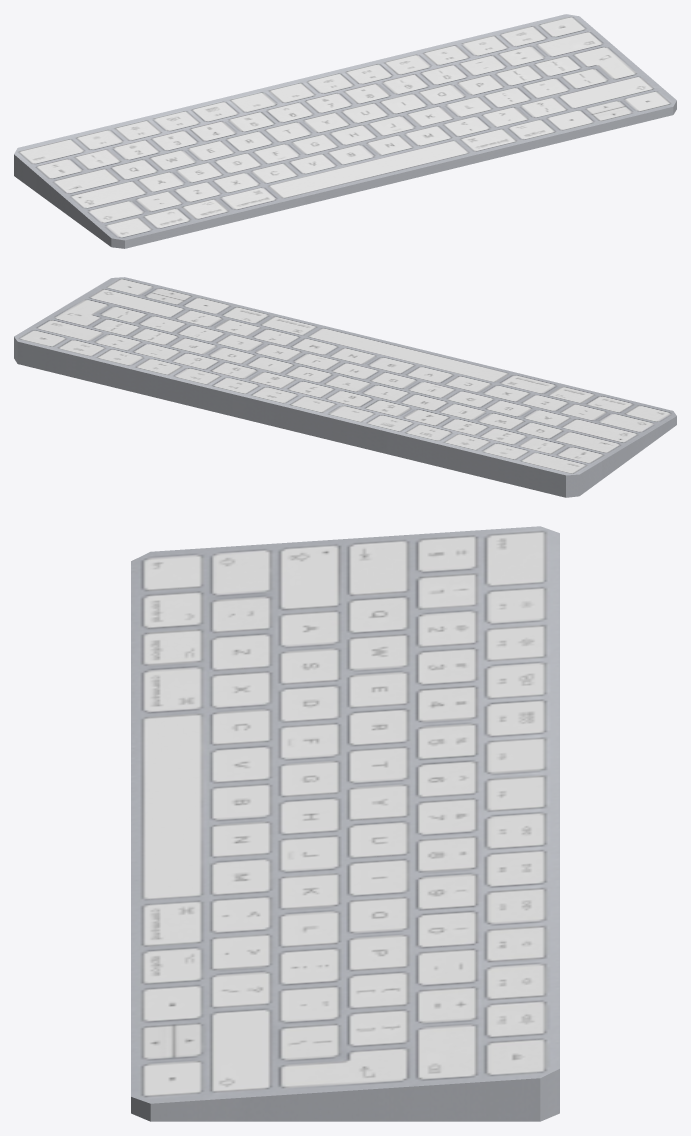
The model's file is Set_05_Keyboard.fbx.
3 renders of one model, top to bottom at view 1: azimuth 30°, elevation 25°; view 2: azimuth 150°, elevation 25°; view 3: azimuth 270°, elevation 25°, orthographic. The views are drawn at different scales.
Parts seen in each view (by area): view 1: Set_05_Keyboard; view 2: Set_05_Keyboard; view 3: Set_05_Keyboard.
Part boxes in pixels (x1,y1,x2,y2): Set_05_Keyboard: [14, 14, 676, 248]; Set_05_Keyboard: [14, 277, 676, 497]; Set_05_Keyboard: [131, 526, 559, 1121].
Size of the model in its own units: 70 by 2.65 by 23.
Materials: 1 (1 with a texture image).
